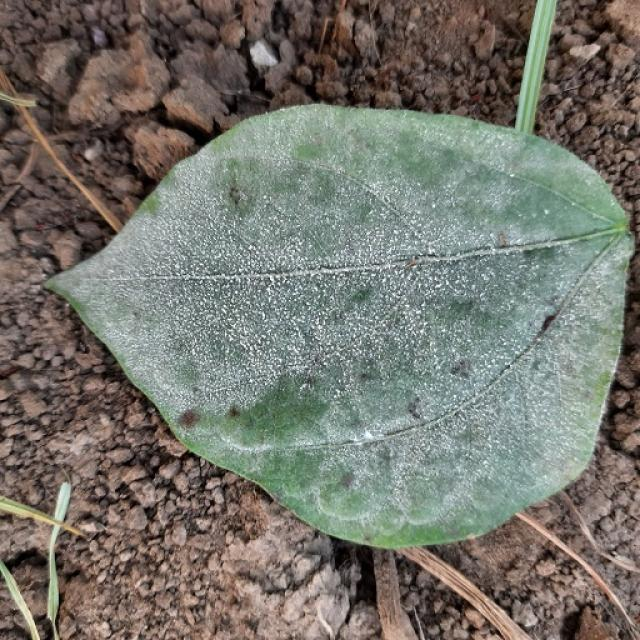Blackgram: (46, 105, 632, 548)
Powdery_Mildew: (156, 185, 540, 423), (154, 167, 344, 279), (201, 266, 361, 386), (314, 114, 532, 193), (572, 255, 629, 479), (376, 239, 504, 338), (348, 434, 496, 507), (117, 235, 269, 306), (311, 236, 446, 289), (248, 381, 328, 436), (311, 292, 384, 341), (204, 319, 261, 381), (291, 141, 338, 171), (349, 430, 380, 445), (362, 429, 374, 440), (426, 245, 436, 256), (544, 209, 550, 215), (509, 173, 515, 178)
